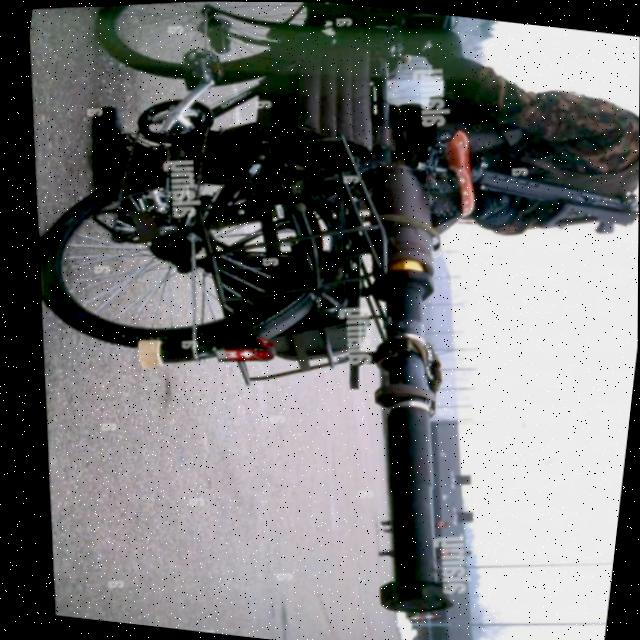rocket: (300, 161, 518, 632)
